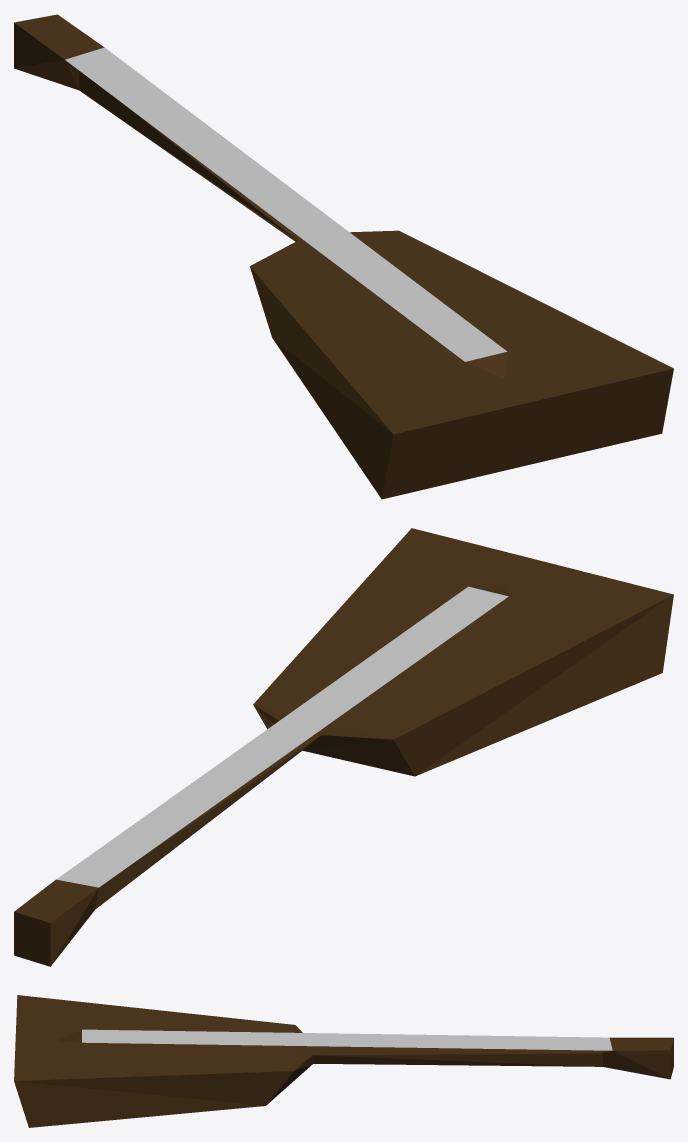
Rendered from ITMI_IE_CELLO.OBJ.
The picture shows the model from 3 angles, top to bottom: view 1: azimuth 30°, elevation 25°; view 2: azimuth 150°, elevation 25°; view 3: azimuth 270°, elevation 25°; orthographic projection. The views are drawn at different scales.
Visible parts, largest first — view 1: ITMI_IE_CELLO; view 2: ITMI_IE_CELLO; view 3: ITMI_IE_CELLO.
Boxes of the visible parts, x1=… form: ITMI_IE_CELLO: x1=14, y1=14, x2=673, y2=499; ITMI_IE_CELLO: x1=14, y1=528, x2=673, y2=966; ITMI_IE_CELLO: x1=14, y1=995, x2=673, y2=1127.
Bounding box in the file's own units: 0.4208 × 0.1144 × 1.36.
